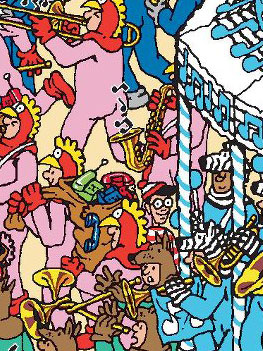waldo: (139, 180, 172, 224)
